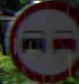No overtake: (8, 0, 78, 83)
